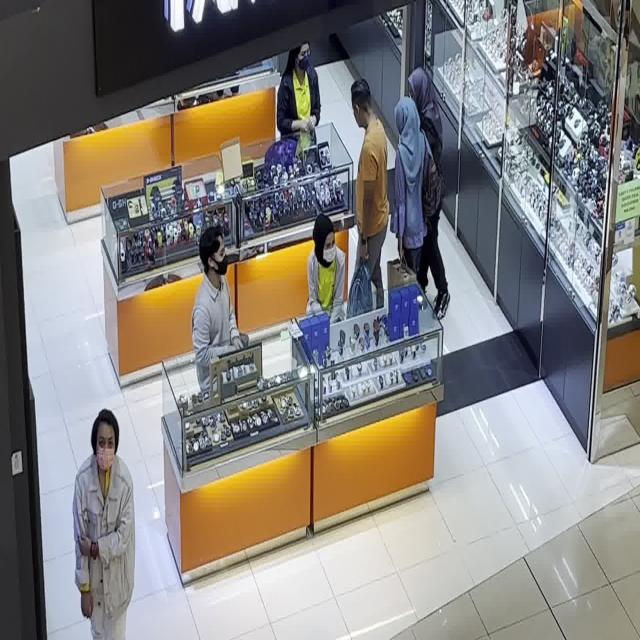Head: (93, 410, 117, 470), (200, 226, 228, 275), (315, 215, 336, 264), (352, 80, 372, 130), (409, 68, 433, 106), (396, 98, 419, 135), (293, 41, 310, 72)
